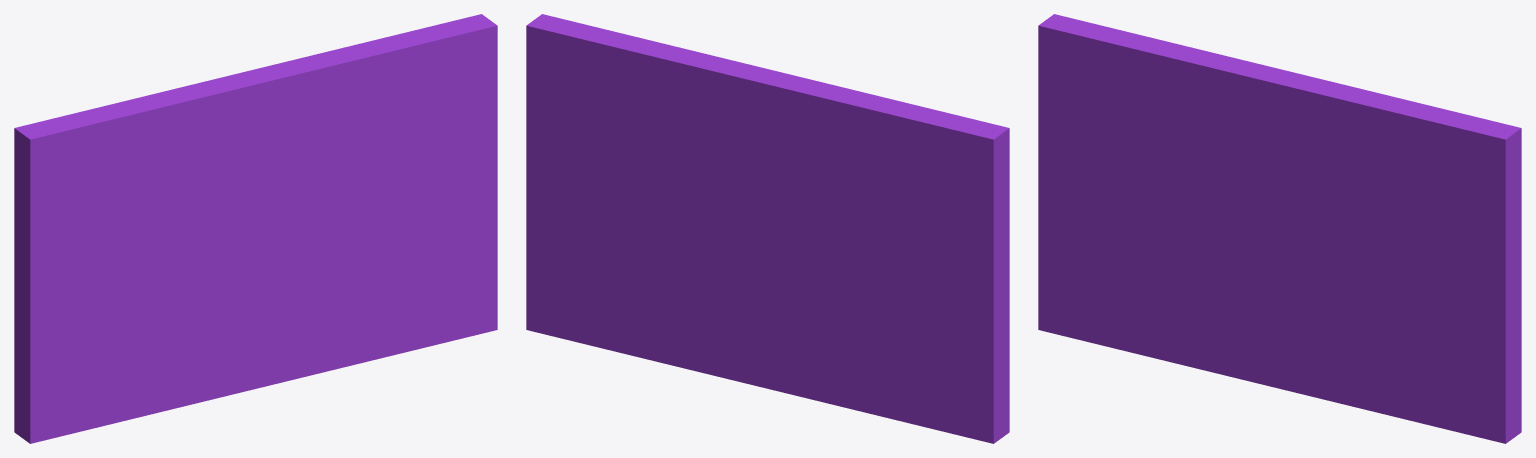
The model's file is Barrier_30_chunks.fbx.
3 views of the same model, side by side, from view 1: azimuth 30°, elevation 25°; view 2: azimuth 150°, elevation 25°; view 3: azimuth 330°, elevation 25° (orthographic).
Parts seen in each view (by area): view 1: Barrier_30_1, Barrier_30_2, Barrier_30_4, Barrier_30_6, Barrier_30_3, Barrier_30_0; view 2: Barrier_30_1, Barrier_30_2, Barrier_30_4, Barrier_30_6, Barrier_30_5; view 3: Barrier_30_1, Barrier_30_2, Barrier_30_4, Barrier_30_6, Barrier_30_3, Barrier_30_0.
Boxes of the visible parts, x1,y1,x2,y2 form: Barrier_30_1: (14, 121, 258, 443); Barrier_30_2: (254, 61, 497, 389); Barrier_30_4: (41, 68, 312, 225); Barrier_30_6: (261, 14, 497, 130); Barrier_30_3: (277, 97, 449, 217); Barrier_30_0: (240, 214, 294, 324); Barrier_30_1: (760, 123, 1009, 443); Barrier_30_2: (526, 55, 770, 389); Barrier_30_4: (716, 68, 988, 231); Barrier_30_6: (526, 14, 763, 121); Barrier_30_5: (590, 103, 740, 216); Barrier_30_1: (1038, 14, 1266, 384); Barrier_30_2: (1262, 158, 1521, 443); Barrier_30_4: (1059, 20, 1320, 224); Barrier_30_6: (1283, 74, 1521, 187); Barrier_30_3: (1285, 154, 1457, 229); Barrier_30_0: (1248, 214, 1302, 321).
Bounding box in the file's own units: 462 × 288 × 27.2.
